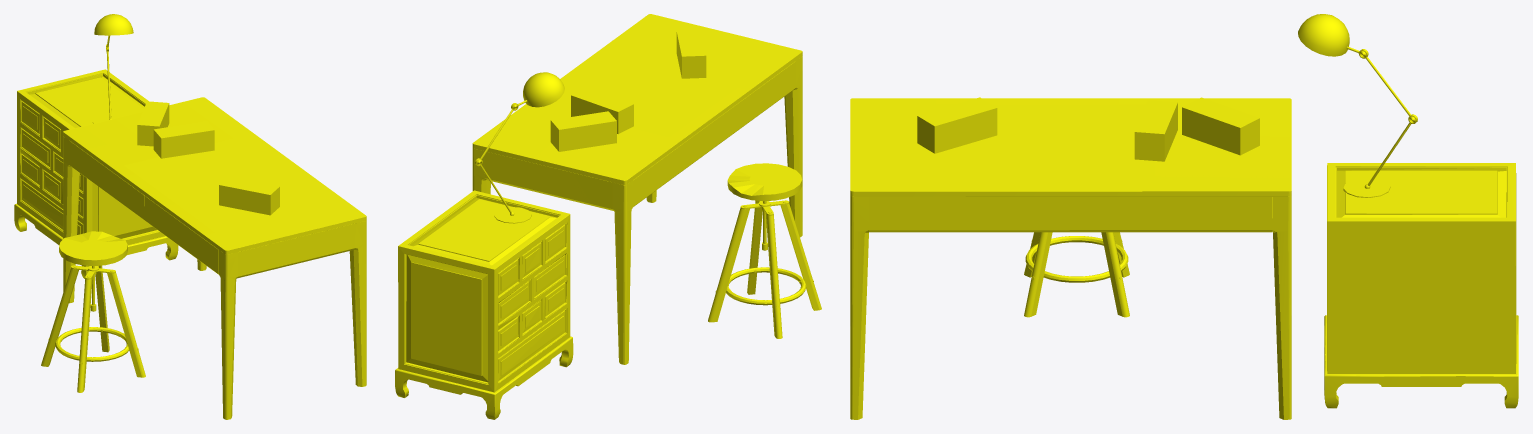
The model's file is Table001.FBX.
3 renders of one model, left to right at view 1: azimuth 30°, elevation 25°; view 2: azimuth 150°, elevation 25°; view 3: azimuth 270°, elevation 25°, orthographic. The views are drawn at different scales.
Parts seen in each view (by area): view 1: Table001; view 2: Table001; view 3: Table001.
Part boxes in pixels (box(x1,y1,x2,y2)): Table001: box(14, 14, 366, 419); Table001: box(395, 14, 821, 419); Table001: box(850, 14, 1518, 419).
Bounding box in the file's own units: 1.11 × 2.12 × 1.23.
